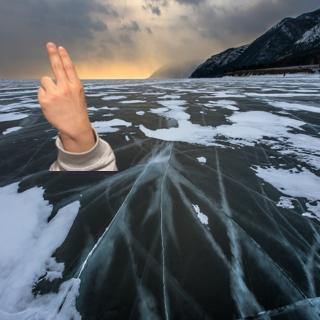DHAVE: (31, 37, 94, 137)
